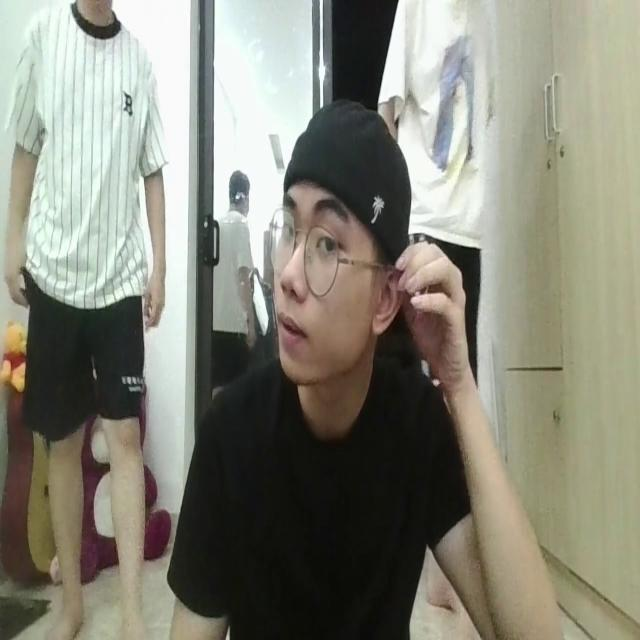extra_person: (3, 0, 171, 640), (388, 7, 507, 342)
student: (168, 120, 558, 640)
